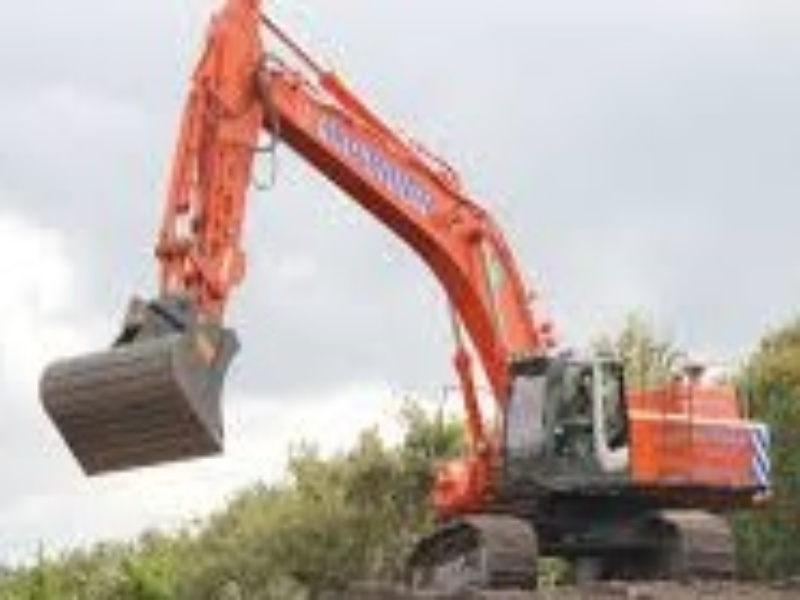wajueji: (379, 277, 776, 600)
